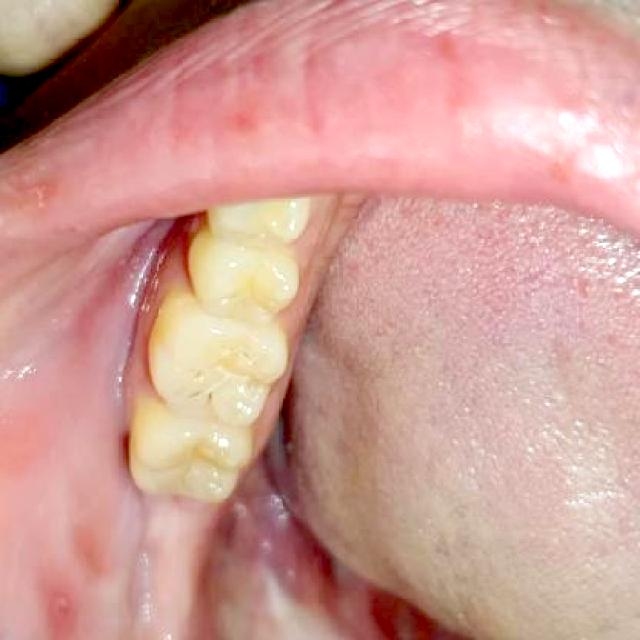Plaque: (185, 365, 218, 409)
